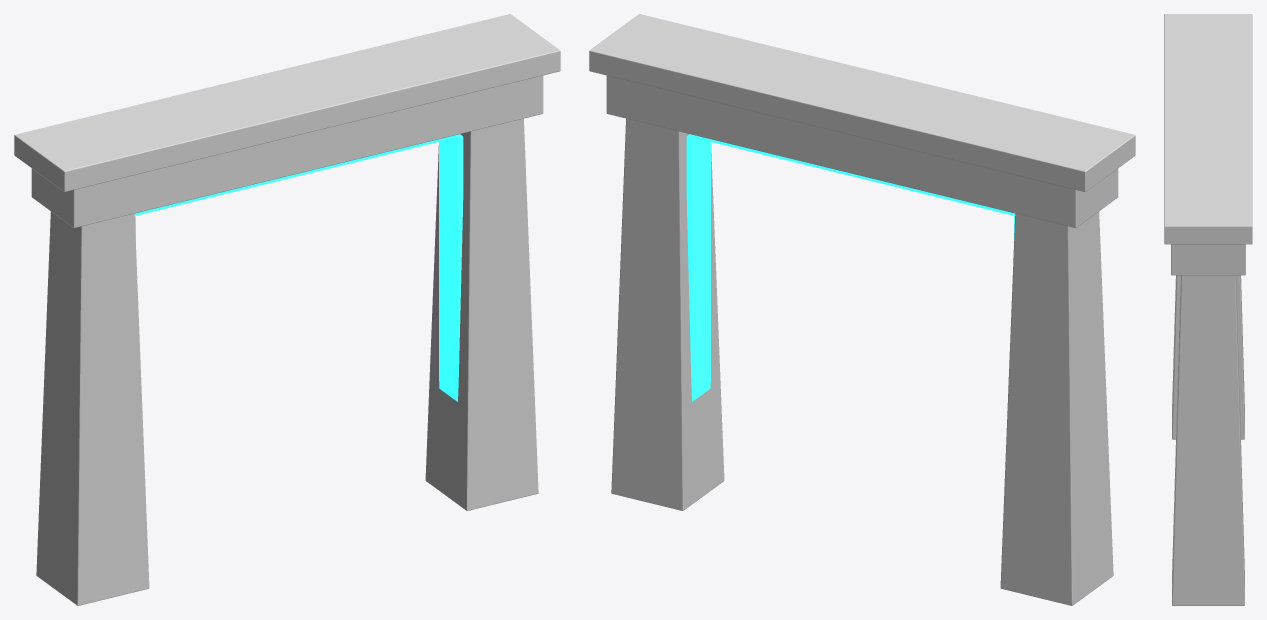
File: egipto_arch.fbx
The picture shows the model from 3 angles, left to right: view 1: azimuth 30°, elevation 25°; view 2: azimuth 150°, elevation 25°; view 3: azimuth 270°, elevation 25°; orthographic projection. The views are drawn at different scales.
Parts seen in each view (by area): view 1: egipto_arch; view 2: egipto_arch; view 3: egipto_arch.
Part boxes in pixels (left/top/right/bottom): egipto_arch: left=14, top=14, right=560, bottom=605; egipto_arch: left=589, top=14, right=1135, bottom=605; egipto_arch: left=1164, top=14, right=1252, bottom=605.
Size of the model in its own units: 7.4 by 6.3 by 1.3.
